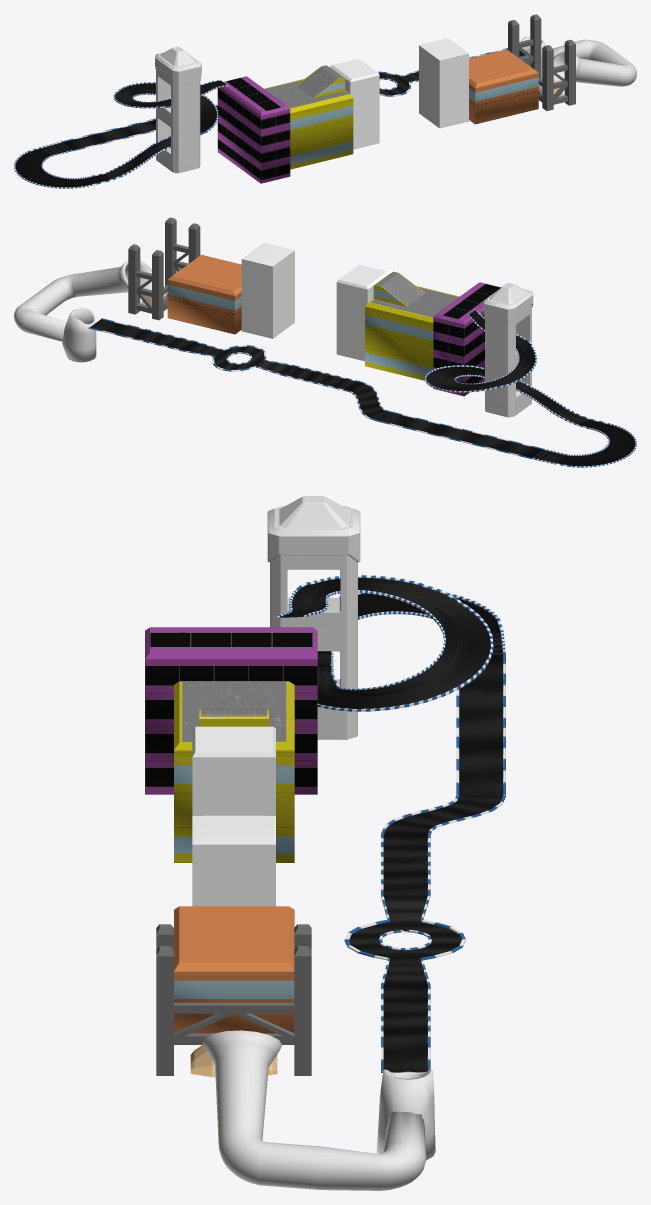
Rendered from pista3.fbx.
3 renders of one model, top to bottom at view 1: azimuth 30°, elevation 25°; view 2: azimuth 150°, elevation 25°; view 3: azimuth 270°, elevation 25°, orthographic. The views are drawn at different scales.
Visible parts, largest first — view 1: Flat 2.005, Plane.002, Flat 2.007, Flat 2.006, Cube.001, Flat 2.004, Flat 2.002, Cylinder; view 2: Plane.002, Flat 2.005, Flat 2.006, Cylinder, Cube.001, Flat 2.004, Flat 2.007, Flat 2.002; view 3: Plane.002, Cylinder, Flat 2.007, Flat 2.005, Flat 2.004, Cube.001, Flat 2.006, Flat 2.002.
Part boxes in pixels (x1=…): Flat 2.005: x1=329, y1=38, x2=468, y2=149; Plane.002: x1=14, y1=48, x2=526, y2=188; Flat 2.007: x1=217, y1=76, x2=290, y2=183; Flat 2.006: x1=264, y1=65, x2=353, y2=169; Cube.001: x1=155, y1=46, x2=201, y2=173; Flat 2.004: x1=469, y1=49, x2=538, y2=124; Flat 2.002: x1=508, y1=14, x2=575, y2=110; Cylinder: x1=520, y1=36, x2=636, y2=86; Plane.002: x1=88, y1=309, x2=636, y2=467; Flat 2.005: x1=241, y1=243, x2=389, y2=361; Flat 2.006: x1=365, y1=271, x2=459, y2=380; Cylinder: x1=14, y1=260, x2=151, y2=362; Cube.001: x1=483, y1=282, x2=533, y2=417; Flat 2.004: x1=167, y1=254, x2=241, y2=334; Flat 2.007: x1=433, y1=282, x2=500, y2=396; Flat 2.002: x1=128, y1=217, x2=200, y2=320; Plane.002: x1=277, y1=575, x2=505, y2=1072; Cylinder: x1=202, y1=1030, x2=435, y2=1190; Flat 2.007: x1=145, y1=627, x2=317, y2=794; Flat 2.005: x1=192, y1=726, x2=275, y2=906; Flat 2.004: x1=174, y1=906, x2=294, y2=1033; Cube.001: x1=267, y1=496, x2=360, y2=739; Flat 2.006: x1=174, y1=681, x2=294, y2=862; Flat 2.002: x1=156, y1=924, x2=311, y2=1075.
Size of the model in its own units: 15648 by 3637 by 4201.
